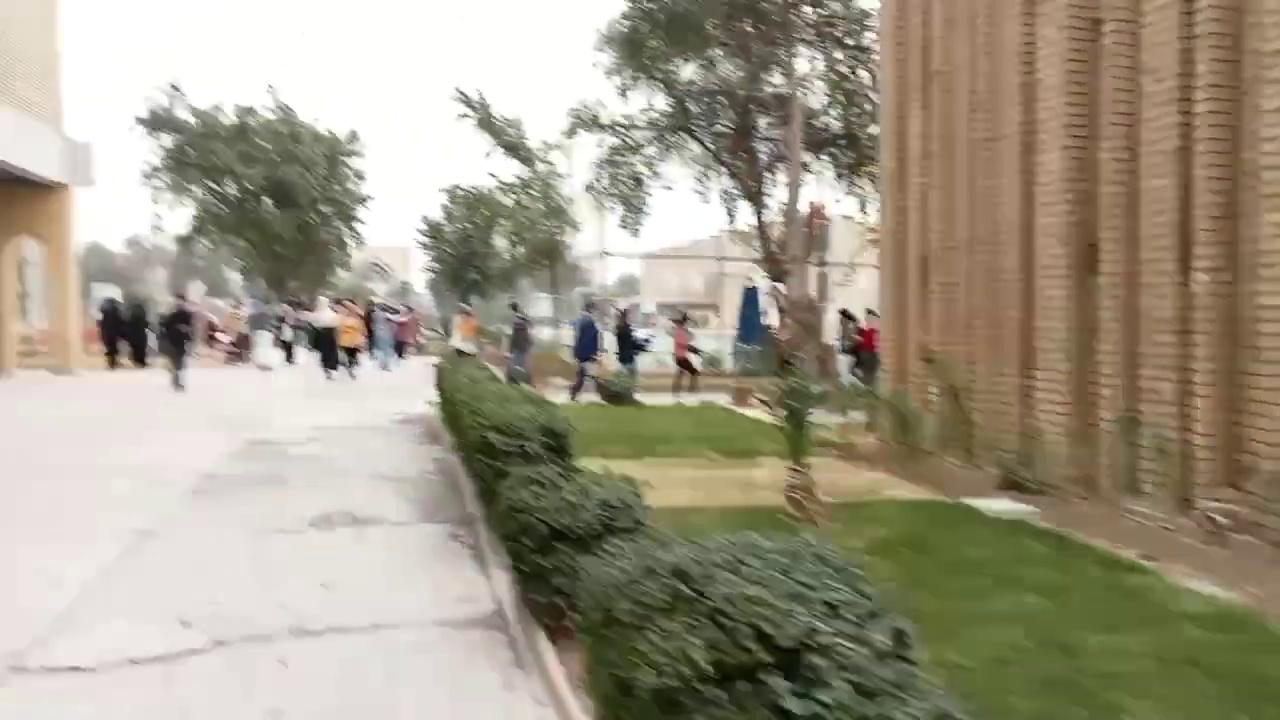person: (917, 339, 980, 468), (774, 356, 816, 468), (157, 291, 194, 391), (568, 301, 602, 401), (332, 304, 371, 381), (668, 313, 702, 397), (505, 300, 535, 387), (613, 306, 643, 393), (374, 306, 413, 366), (448, 302, 481, 357), (272, 316, 306, 368)
tree: (430, 340, 968, 718), (563, 0, 883, 529), (132, 78, 373, 311), (450, 85, 582, 325), (414, 182, 517, 323), (495, 168, 581, 325)
